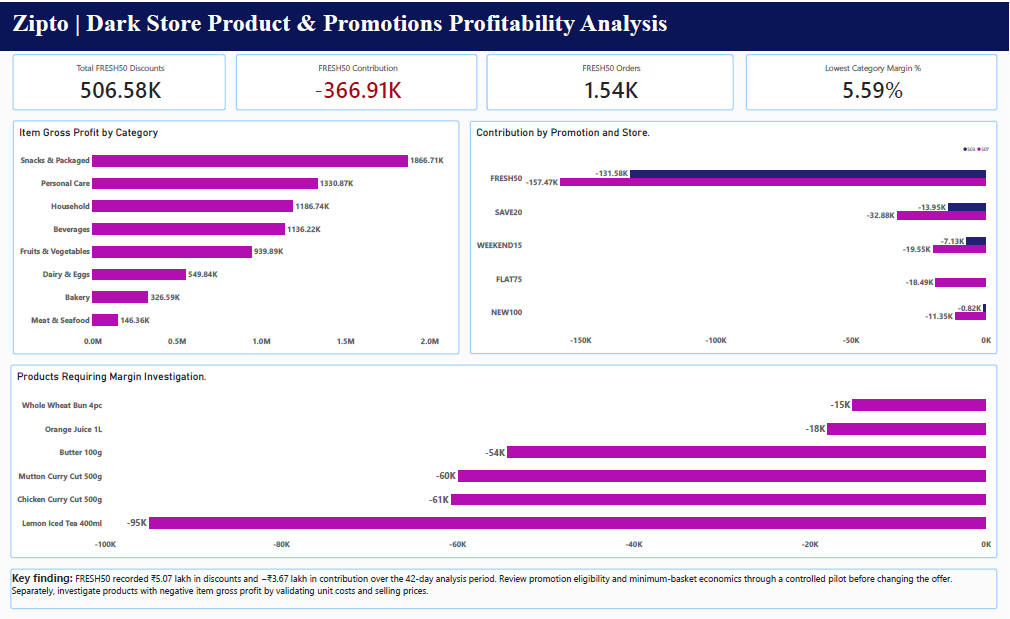

This screenshot's page, from the dashboard's own definition file:
{"tool":"powerbi","page":{"name":"Dashboard_3","canvas":[2990,1840],"ordinal":2},"visuals":[{"type":"cardVisual","fields":{"Data":["fresh50_summary.Total FRESH50 Discounts"]},"box":[36.8,153.9,632.3,167.3],"z":0},{"type":"cardVisual","fields":{"Data":["fresh50_summary.FRESH50 Contribution"]},"box":[699.2,153.9,715.9,167.3],"z":1000},{"type":"cardVisual","fields":{"Data":["fresh50_summary.FRESH50 Orders"]},"box":[1441.9,153.9,732.7,167.3],"z":2000},{"type":"cardVisual","fields":{"Data":["category_profitability.Lowest Category Margin"]},"box":[2211.3,153.9,746,167.3],"z":3000},{"type":"textbox","box":[0,0,2990.8,143.9],"z":4000},{"type":"clusteredBarChart","title":"Item Gross Profit by Category","fields":{"Category":["category_profitability.category_clean"],"Y":["Sum(category_profitability.item_gross_profit)"]},"box":[36.8,349.6,1324.8,695.5],"z":5000},{"type":"clusteredBarChart","title":"Contribution by Promotion and Store.","fields":{"Y":["Sum(promo_analysis.contribution)"],"Category":["promo_analysis.promo_code"],"Series":["promo_analysis.store_id"]},"box":[1391.7,351.3,1565.7,692.5],"z":6000},{"type":"clusteredBarChart","title":"Products Requiring Margin Investigation.","fields":{"Category":["product_profitability.product_name"],"Y":["Sum(product_profitability.item_gross_profit)"]},"box":[30.1,1073.9,2927.3,575.4],"z":7000},{"type":"textbox","box":[30.1,1679.4,2927.3,120.4],"z":8000}]}

Visuals, with their boxes in screenshot pixels (x1, y1, x2, y2), scaled from the page's 2990x1840 canvas onto the 1010x619 screenshot:
cardVisual - fresh50_summary.Total FRESH50 Discounts: [12,52,226,108]
cardVisual - fresh50_summary.FRESH50 Contribution: [236,52,478,108]
cardVisual - fresh50_summary.FRESH50 Orders: [487,52,735,108]
cardVisual - category_profitability.Lowest Category Margin: [747,52,999,108]
textbox: [0,0,1009,48]
"Item Gross Profit by Category" clusteredBarChart: [12,118,460,352]
"Contribution by Promotion and Store." clusteredBarChart: [470,118,999,351]
"Products Requiring Margin Investigation." clusteredBarChart: [10,361,999,555]
textbox: [10,565,999,605]
